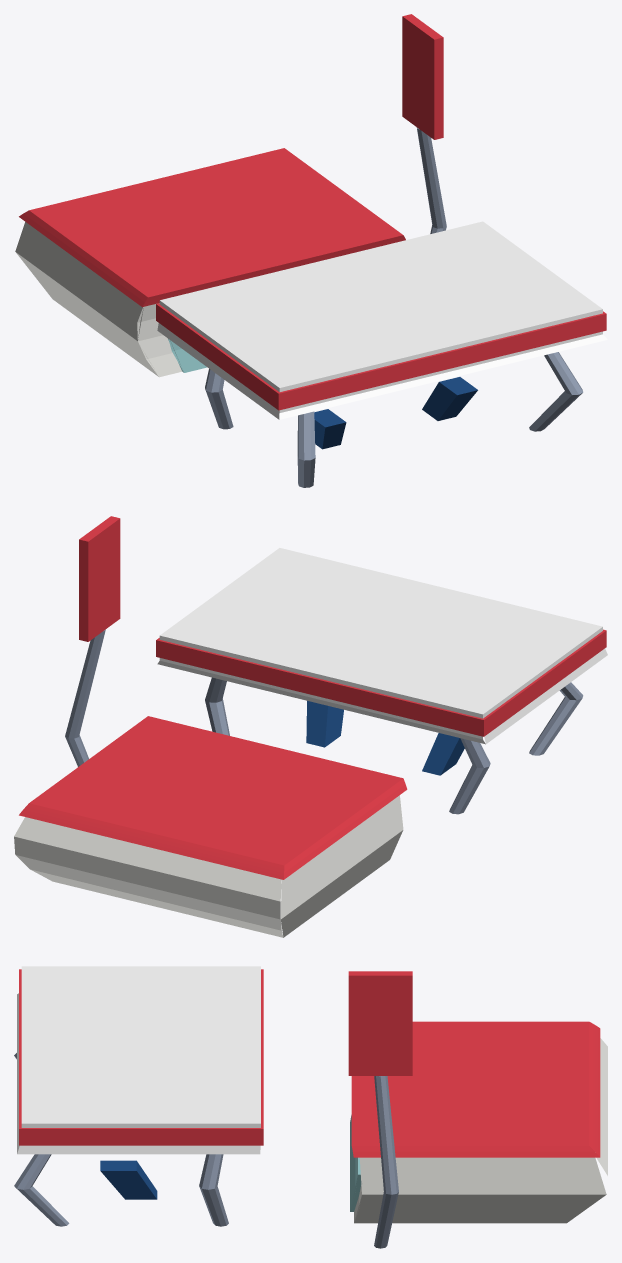
Rendered from petrol_station.glb.
3 views of the same model, one above another, from view 1: azimuth 30°, elevation 25°; view 2: azimuth 150°, elevation 25°; view 3: azimuth 270°, elevation 25° (orthographic).
Parts seen in each view (by area): view 1: petrol_station_red, petrol_station_white, petrol_station_offwhite, petrol_station_metal, petrol_station_garda_blue; view 2: petrol_station_red, petrol_station_white, petrol_station_offwhite, petrol_station_metal, petrol_station_garda_blue; view 3: petrol_station_red, petrol_station_white, petrol_station_offwhite, petrol_station_metal, petrol_station_garda_blue, petrol_station_glass.
Part boxes in pixels (bbox=[...]): petrol_station_red: bbox=[19, 14, 606, 410]; petrol_station_white: bbox=[157, 221, 607, 419]; petrol_station_offwhite: bbox=[15, 222, 181, 377]; petrol_station_metal: bbox=[205, 127, 583, 487]; petrol_station_garda_blue: bbox=[314, 377, 477, 449]; petrol_station_red: bbox=[19, 516, 606, 879]; petrol_station_white: bbox=[157, 548, 607, 744]; petrol_station_offwhite: bbox=[14, 795, 403, 937]; petrol_station_metal: bbox=[65, 629, 583, 814]; petrol_station_garda_blue: bbox=[306, 701, 464, 775]; petrol_station_red: bbox=[19, 969, 600, 1157]; petrol_station_white: bbox=[17, 966, 260, 1154]; petrol_station_offwhite: bbox=[354, 1038, 607, 1223]; petrol_station_metal: bbox=[14, 1053, 398, 1248]; petrol_station_garda_blue: bbox=[100, 1160, 157, 1199]; petrol_station_glass: bbox=[350, 1115, 361, 1211].
Size of the model in its own units: 15.96 by 11.75 by 23.23.
